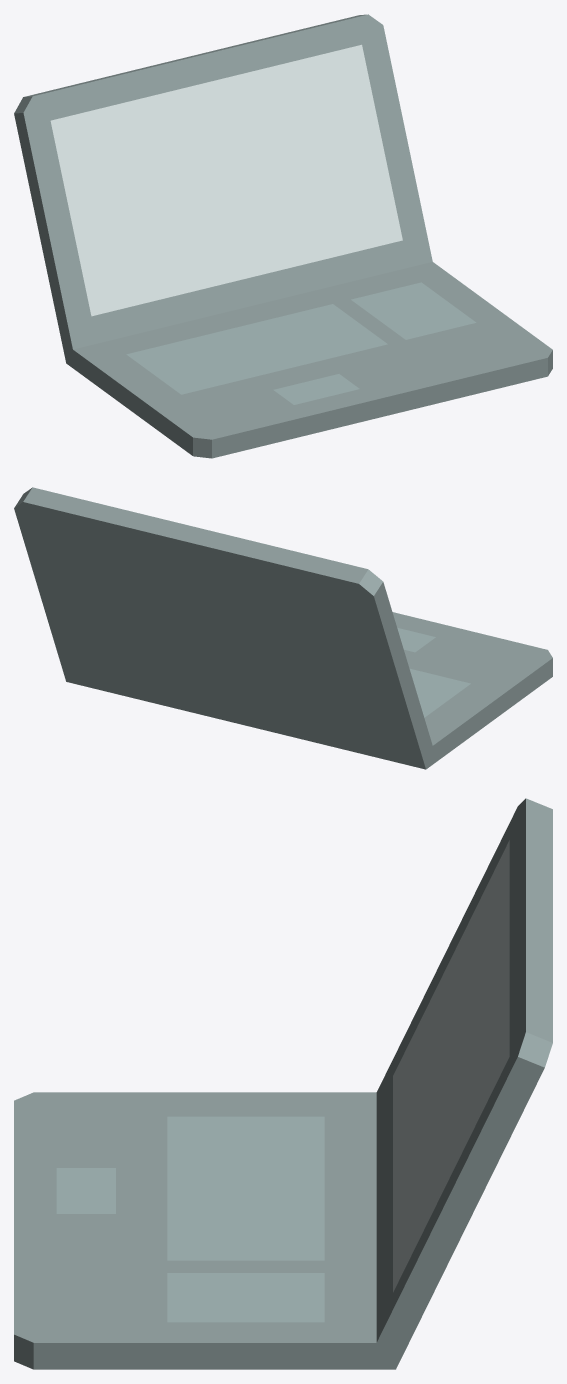
The model's file is laptop.fbx.
3 views of the same model, one above another, from view 1: azimuth 30°, elevation 25°; view 2: azimuth 150°, elevation 25°; view 3: azimuth 270°, elevation 25° (orthographic). The views are drawn at different scales.
Visible parts, largest first — view 1: laptop; view 2: laptop; view 3: laptop.
Boxes of the visible parts, left/top/right/bottom form: laptop: left=14, top=14, right=552, bottom=458; laptop: left=14, top=487, right=552, bottom=769; laptop: left=14, top=798, right=552, bottom=1369.
Bounding box in the file's own units: 0.34 × 0.2084 × 0.3092.
